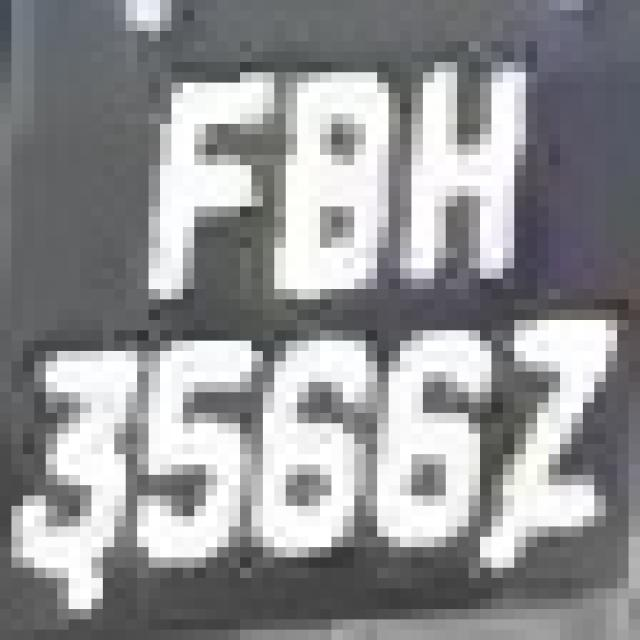3: (12, 320, 137, 619)
5: (126, 289, 251, 578)
6: (240, 310, 377, 578), (388, 300, 492, 558)
B: (274, 62, 400, 310)
F: (137, 42, 274, 330)
H: (389, 41, 537, 310)
Z: (492, 279, 628, 547)
